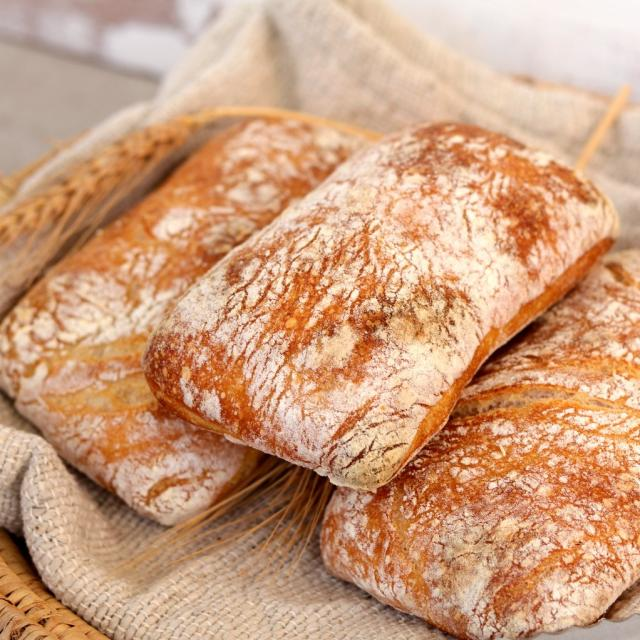Ciabatta: (143, 123, 617, 490), (0, 115, 378, 524), (321, 250, 639, 639)
